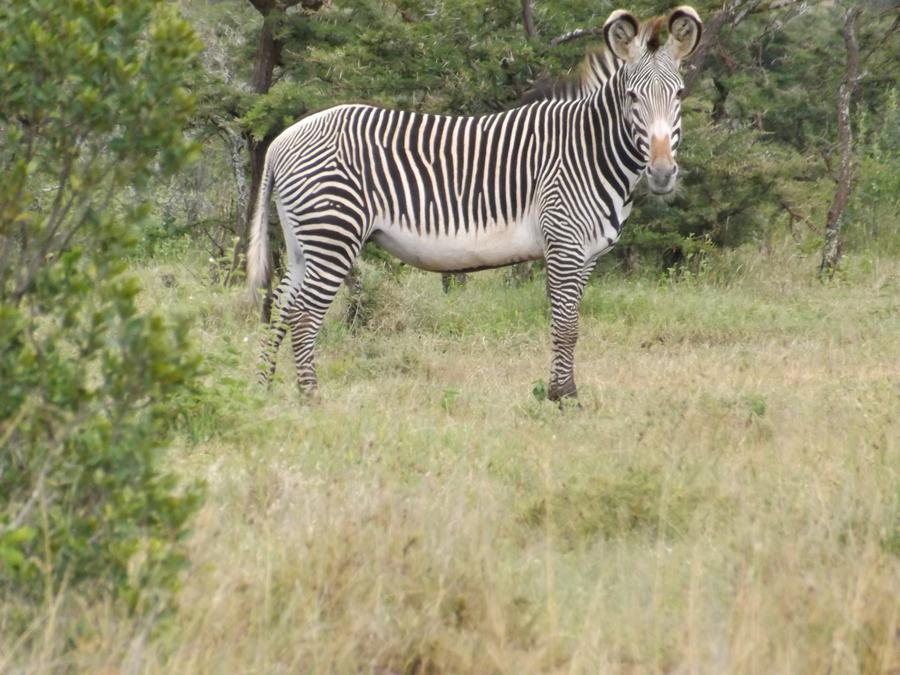zebra_grevys: (270, 95, 589, 246)
